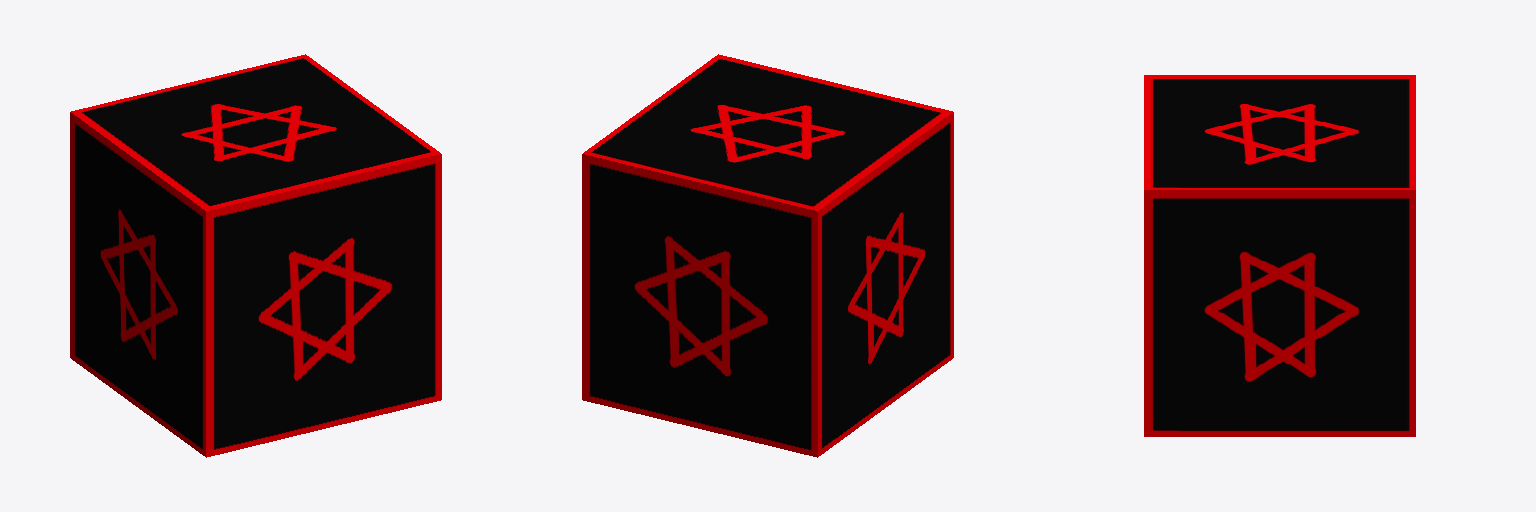
3 views of the same model, side by side, from view 1: azimuth 30°, elevation 25°; view 2: azimuth 150°, elevation 25°; view 3: azimuth 270°, elevation 25° (orthographic).
Parts seen in each view (by area): view 1: 立方体; view 2: 立方体; view 3: 立方体.
Boxes of the visible parts, box(x1,y1,x2,y2) form: 立方体: box(70, 54, 441, 457); 立方体: box(582, 54, 953, 457); 立方体: box(1144, 75, 1415, 436).
Size of the model in its own units: 6 by 6 by 6.
Materials: 1 (1 with a texture image).